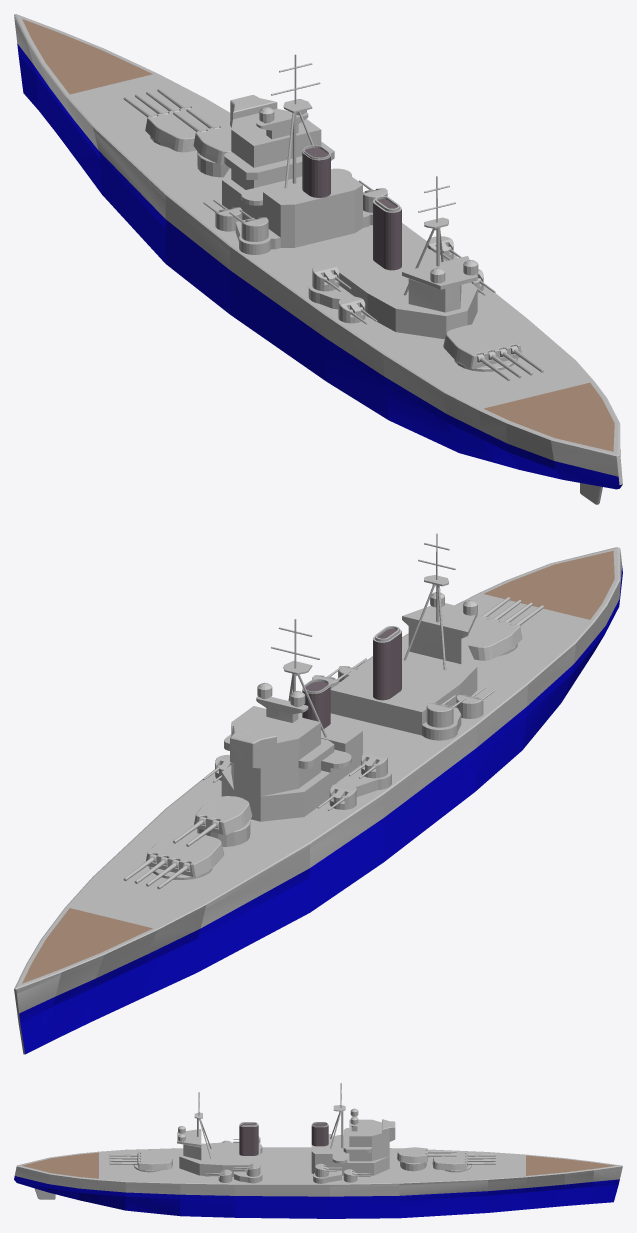
File: big_classic3.fbx
The picture shows the model from 3 angles, top to bottom: view 1: azimuth 30°, elevation 25°; view 2: azimuth 150°, elevation 25°; view 3: azimuth 270°, elevation 25°; orthographic projection. The views are drawn at different scales.
Visible parts, largest first — view 1: big_classic3; view 2: big_classic3; view 3: big_classic3.
Part boxes in pixels (box(x1,y1,x2,y2)): big_classic3: box(14, 14, 622, 504); big_classic3: box(14, 533, 622, 1054); big_classic3: box(14, 1083, 622, 1218).
Size of the model in its own units: 1035 by 1537 by 7068.
